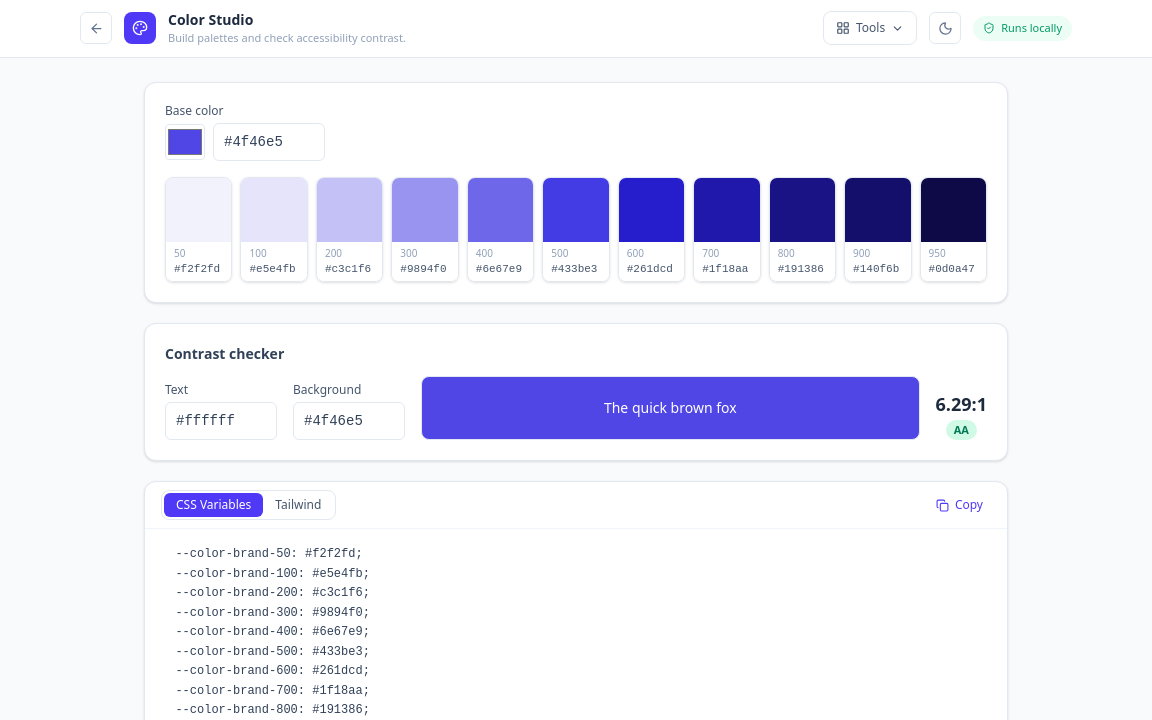
ColorApp › switches to a Tailwind palette output
Step 1. Click the button "Tailwind" → (298, 505), box 263,493 -> 333,517
(page scrolled)
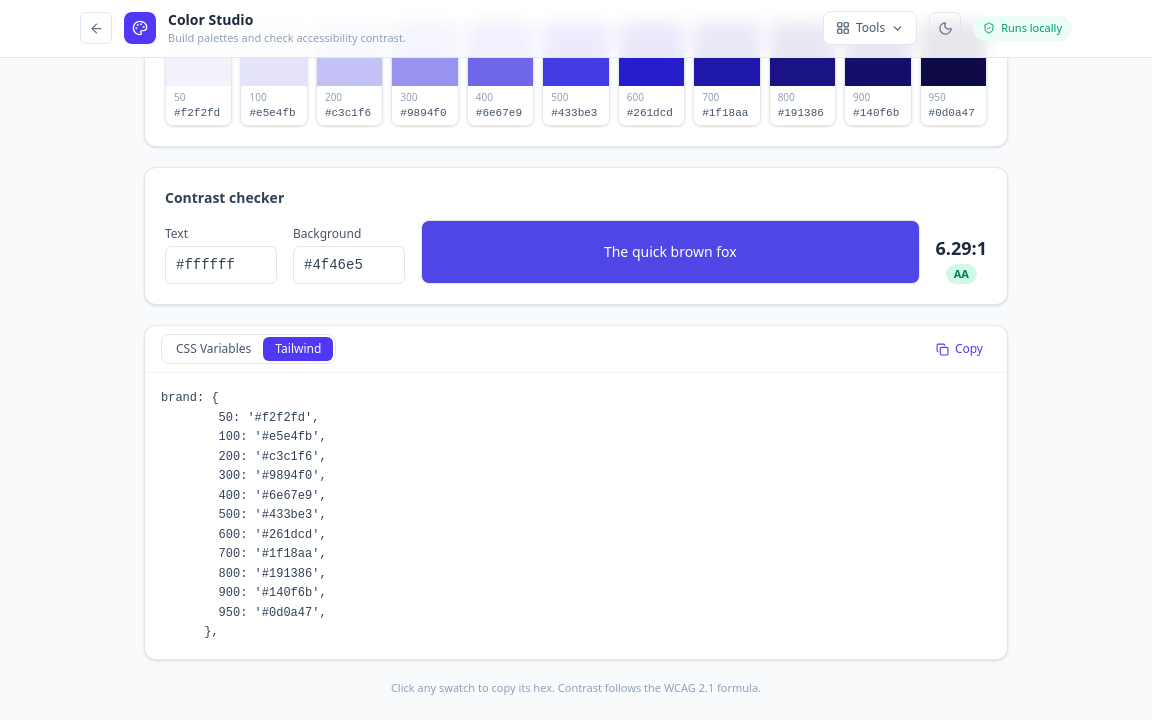
Check: the text "brand: {" is shown, box 161,391 -> 327,639
